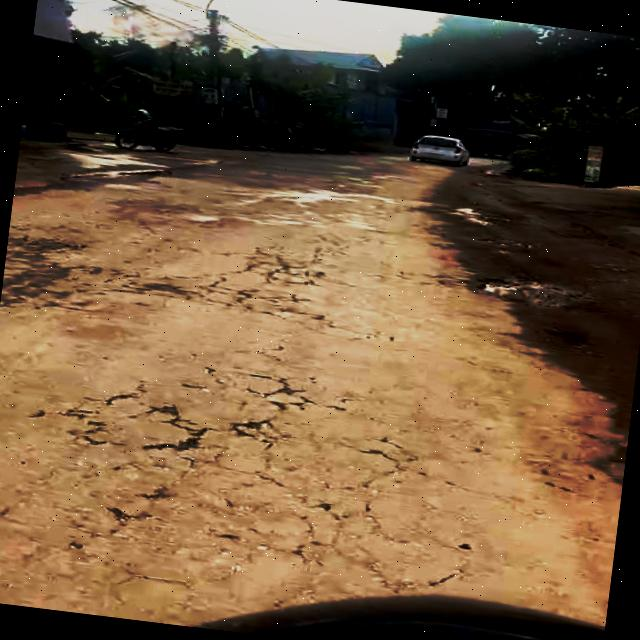pothole: (478, 267, 596, 316), (582, 398, 632, 488), (538, 322, 592, 356), (456, 202, 505, 229), (124, 164, 176, 182)
